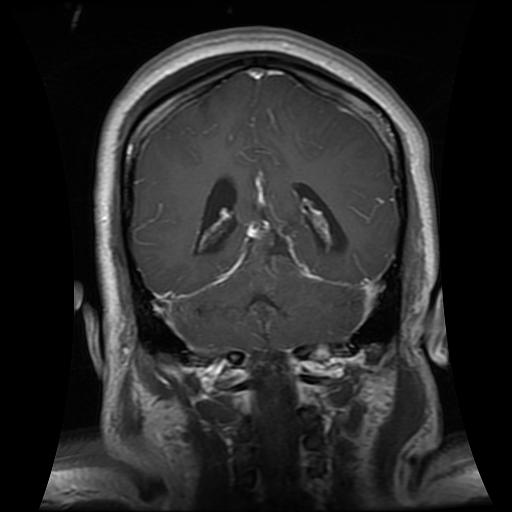Gliomia_tumour: (236, 170, 297, 267)
